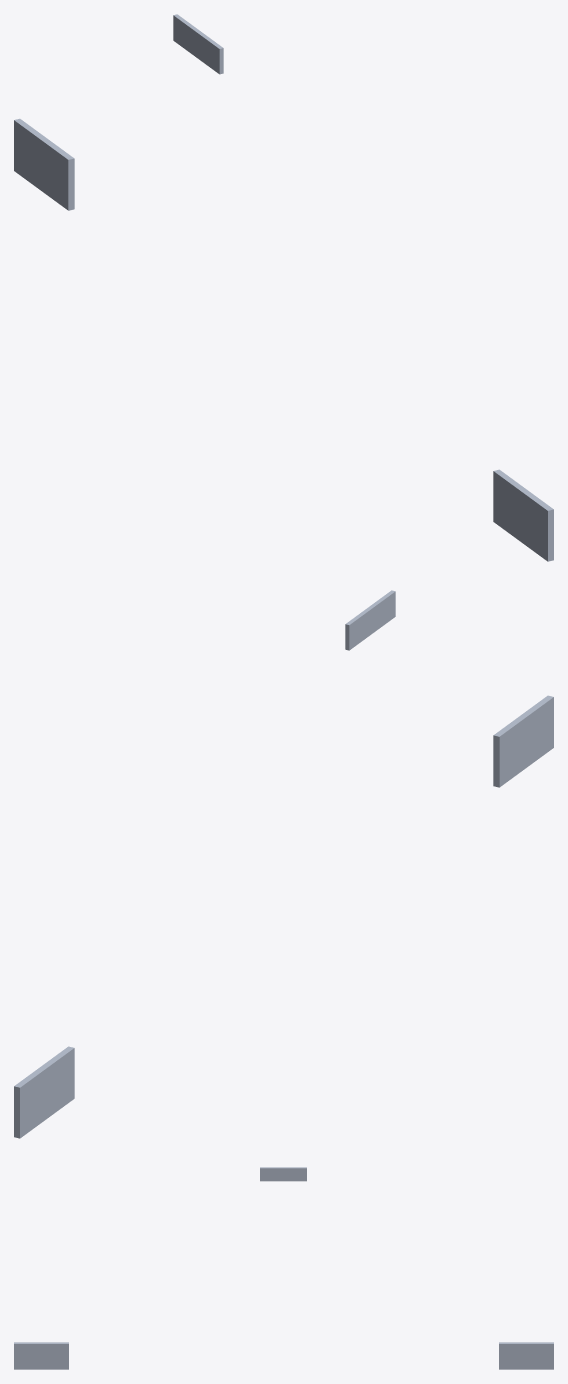
File: Mirrors.glb
The picture shows the model from 3 angles, top to bottom: view 1: azimuth 30°, elevation 25°; view 2: azimuth 150°, elevation 25°; view 3: azimuth 270°, elevation 25°; orthographic projection. The views are drawn at different scales.
Parts seen in each view (by area): view 1: RearMirrorCase.006; view 2: RearMirrorCase.006; view 3: RearMirrorCase.006.
Part boxes in pixels (<box>): RearMirrorCase.006: <box>14,14,553,561</box>; RearMirrorCase.006: <box>14,590,553,1138</box>; RearMirrorCase.006: <box>14,1167,553,1369</box>.
Bounding box in the file's own units: 0.00899 × 0.0335 × 0.0912.
Materials: 1 (1 with a texture image).
